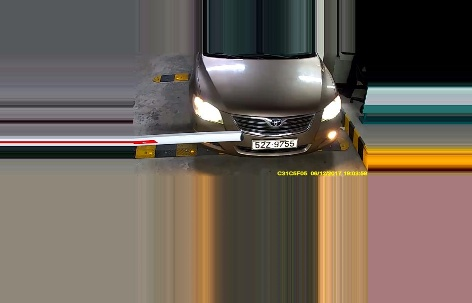plate: (250, 136, 298, 148)
